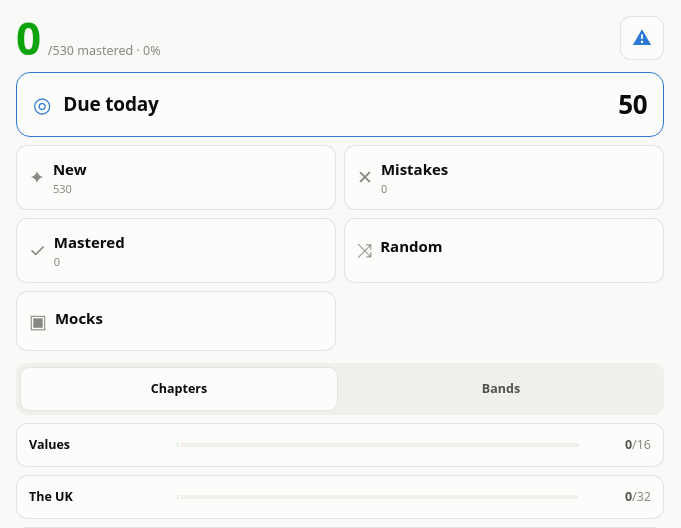
Test case: explanations › appears once the question is answered
Check: the button "◎ Due today 50" is shown, box [16,72,664,137]
Click the button "Values 0/16" at (340, 445), box [16,423,664,467]
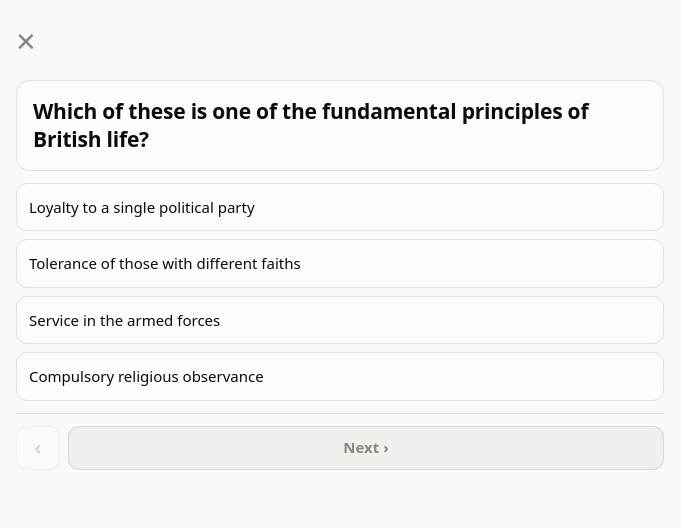
Check: the heading is shown, box [33,97,647,154]
Click the button "Tolerance of those with different faiths" at (165, 263), box [16,239,664,288]
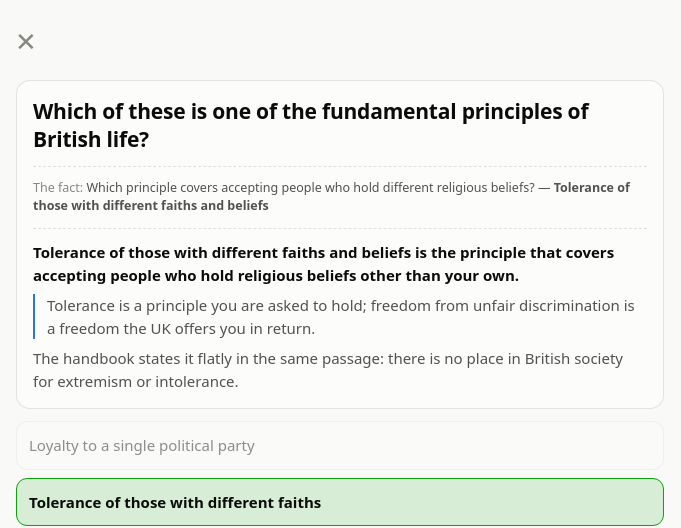
Check: the text "Tolerance of those with different faiths and beliefs is the principle that covers accepting people who hold religious be" is shown, box [33,242,614,285]
